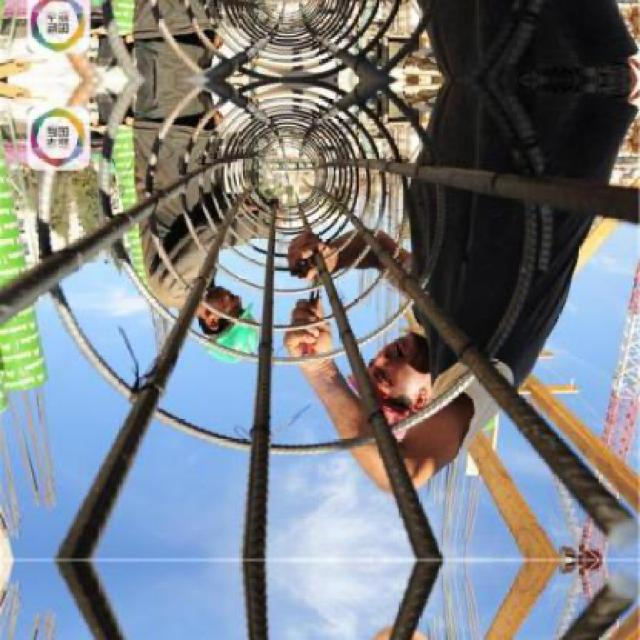con casco: (323, 310, 578, 488), (137, 258, 293, 393)
